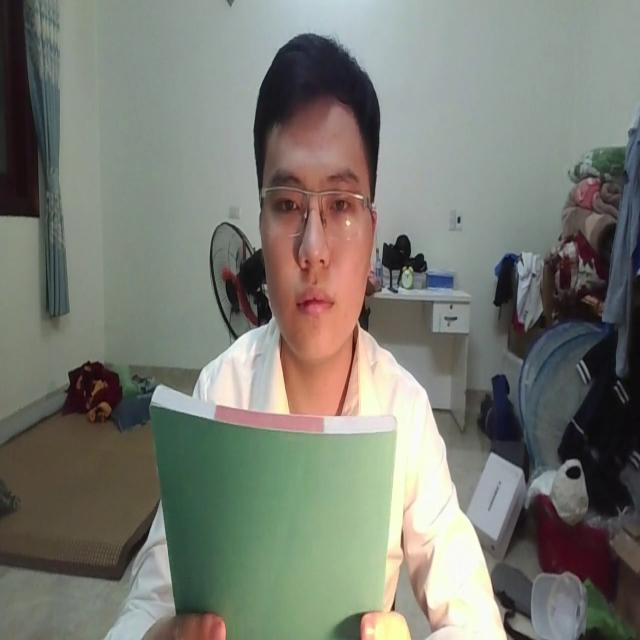book: (151, 367, 398, 635)
student: (108, 41, 506, 640)
